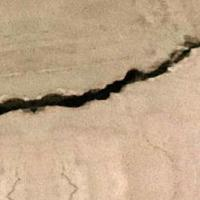crack: (0, 28, 199, 134)
